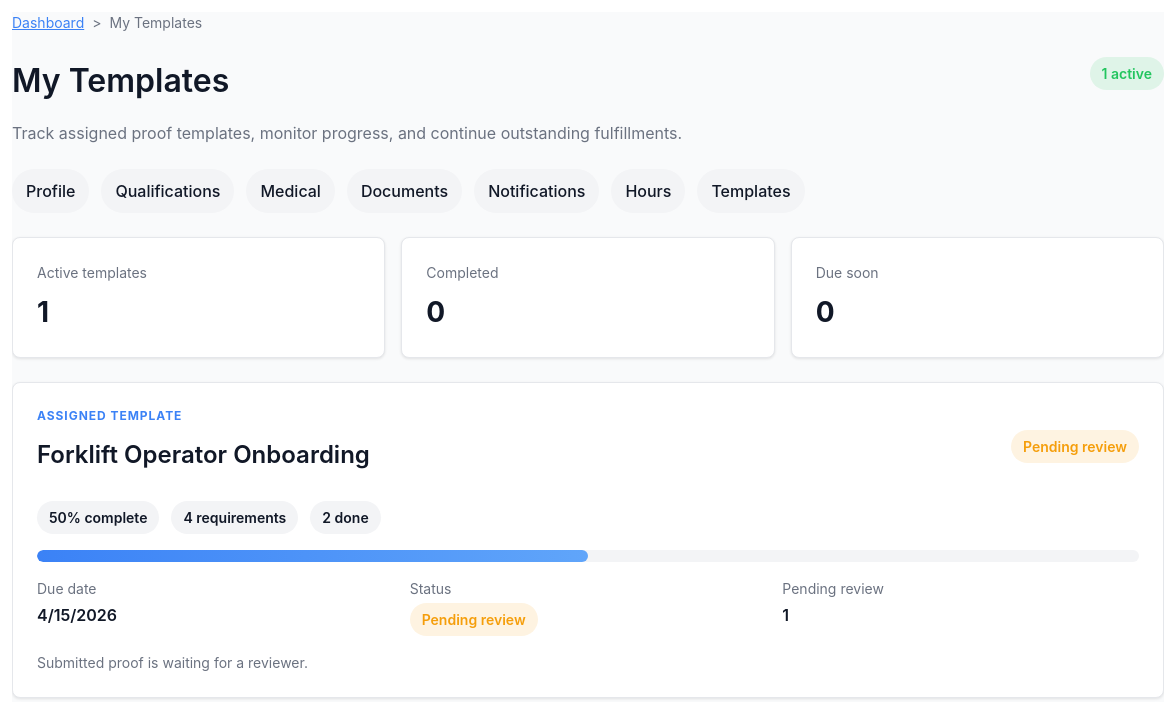
Test: MyTemplatesPage › renders assigned templates with progress and navigates to the fulfillment detail
Expected: the heading "My Templates" is shown, [12,61,229,100]
Expected: the heading "Forklift Operator Onboarding" is shown, [37,437,370,473]
Click the link "Forklift Operator Onboarding".
click(588, 540)  # box [12,382,1163,698]
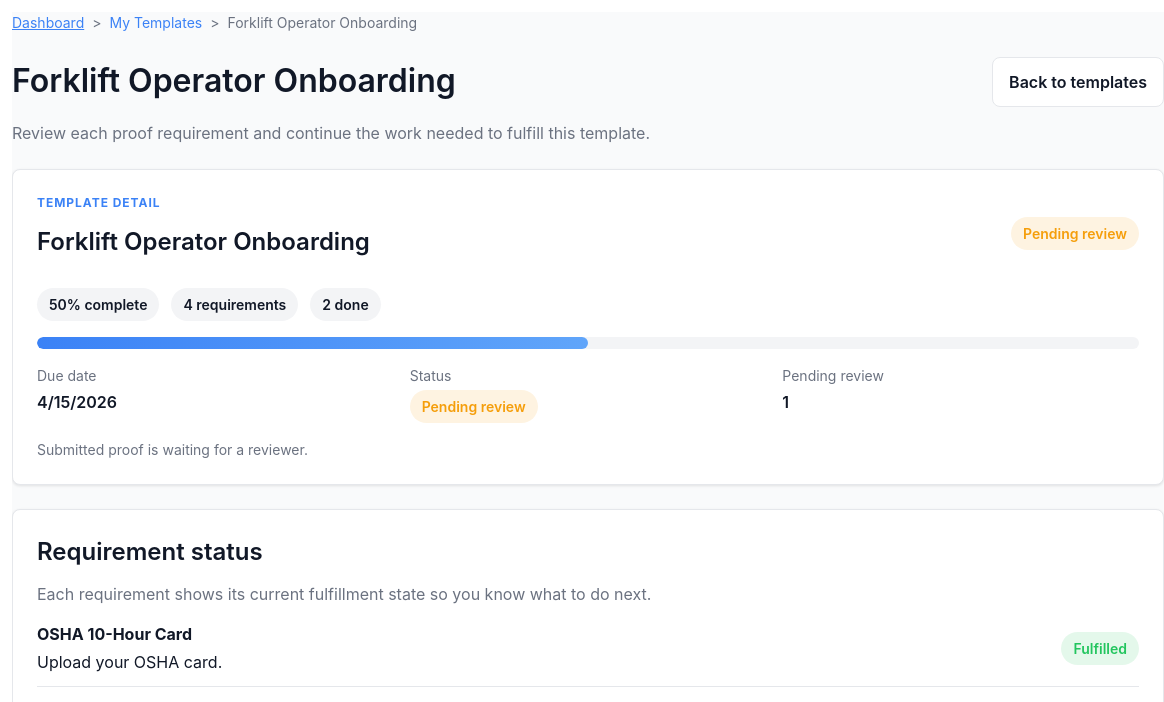
Now the heading "Requirement status" is shown, box [37,537,263,566]
Now the text "OSHA 10-Hour Card" is shown, box [37,624,192,644]
